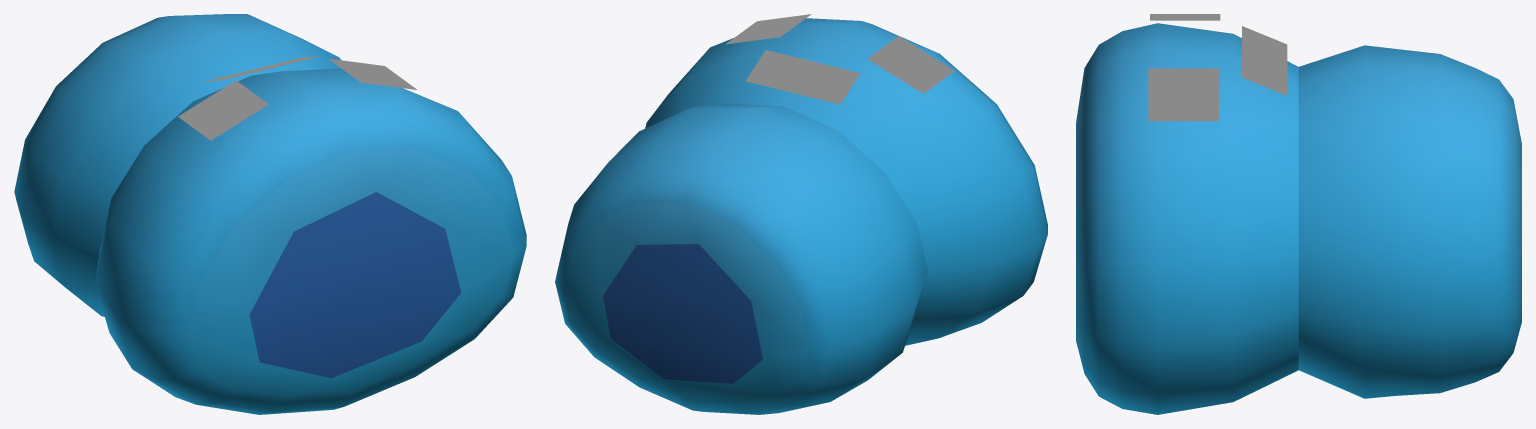
File: sweet_tube_half_blue_smile.fbx
The picture shows the model from 3 angles, left to right: view 1: azimuth 30°, elevation 25°; view 2: azimuth 150°, elevation 25°; view 3: azimuth 270°, elevation 25°; orthographic projection. The views are drawn at different scales.
Visible parts, largest first — view 1: pie_half_blue, smile_pie; view 2: pie_half_blue, smile_pie; view 3: pie_half_blue, smile_pie.
Boxes of the visible parts, <box> form: pie_half_blue: <box>14,14,526,414</box>; smile_pie: <box>178,56,416,140</box>; pie_half_blue: <box>555,18,1047,414</box>; smile_pie: <box>726,14,954,104</box>; pie_half_blue: <box>1076,23,1521,414</box>; smile_pie: <box>1148,14,1287,121</box>.
Bounding box in the file's own units: 34.33 × 25.87 × 30.95.
